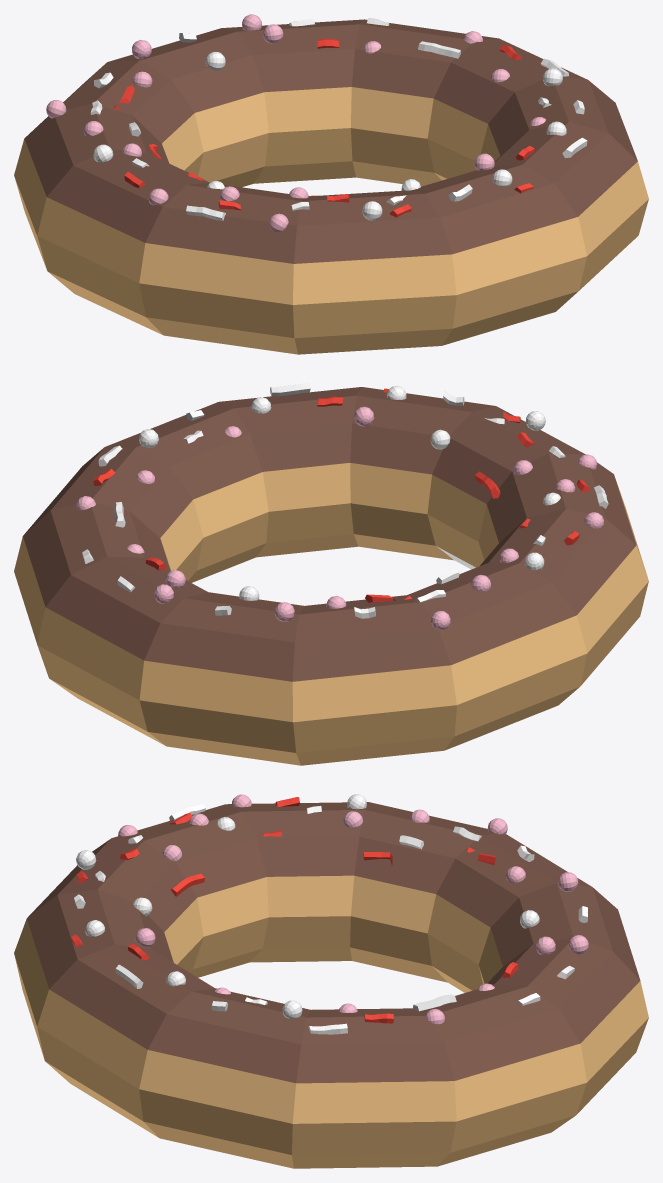
The picture shows the model from 3 angles, top to bottom: view 1: azimuth 30°, elevation 25°; view 2: azimuth 150°, elevation 25°; view 3: azimuth 270°, elevation 25°; orthographic projection.
Parts seen in each view (by area): view 1: mesh_537724473; view 2: mesh_537724473; view 3: mesh_537724473.
Boxes of the visible parts, left/top/right/bottom form: mesh_537724473: left=14, top=19, right=648, bottom=354; mesh_537724473: left=14, top=387, right=648, bottom=765; mesh_537724473: left=14, top=802, right=648, bottom=1168.
Bounding box in the file's own units: 62.53 × 19.45 × 62.45.
